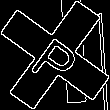P_NE: (25, 24, 85, 86)
